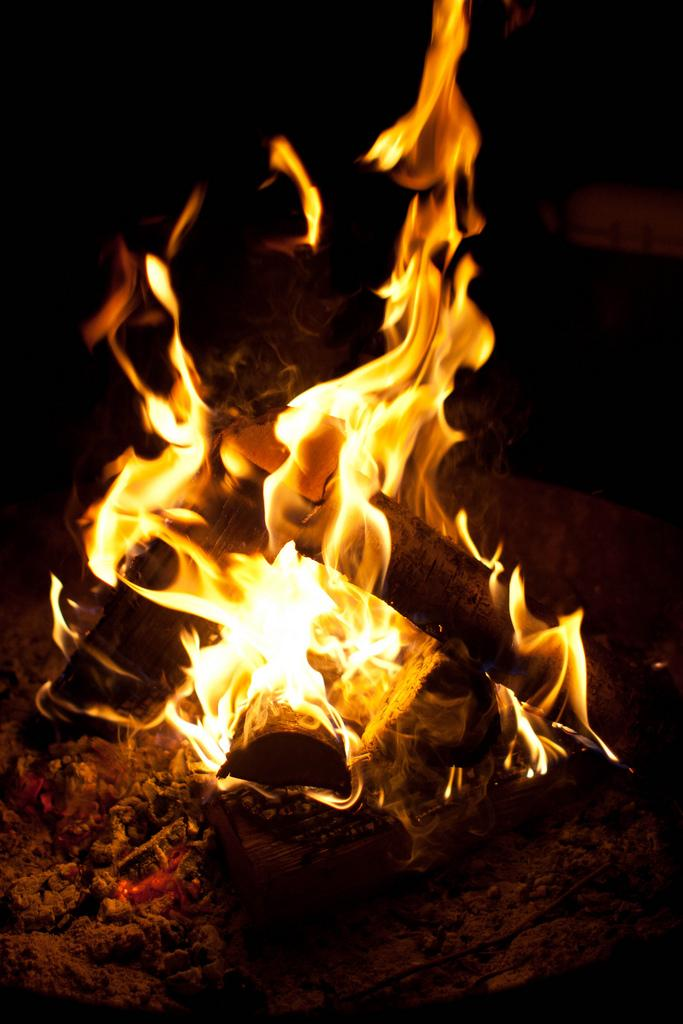fire: (183, 545, 350, 725), (400, 98, 485, 370), (285, 368, 408, 555), (98, 428, 235, 532), (425, 272, 438, 275)
